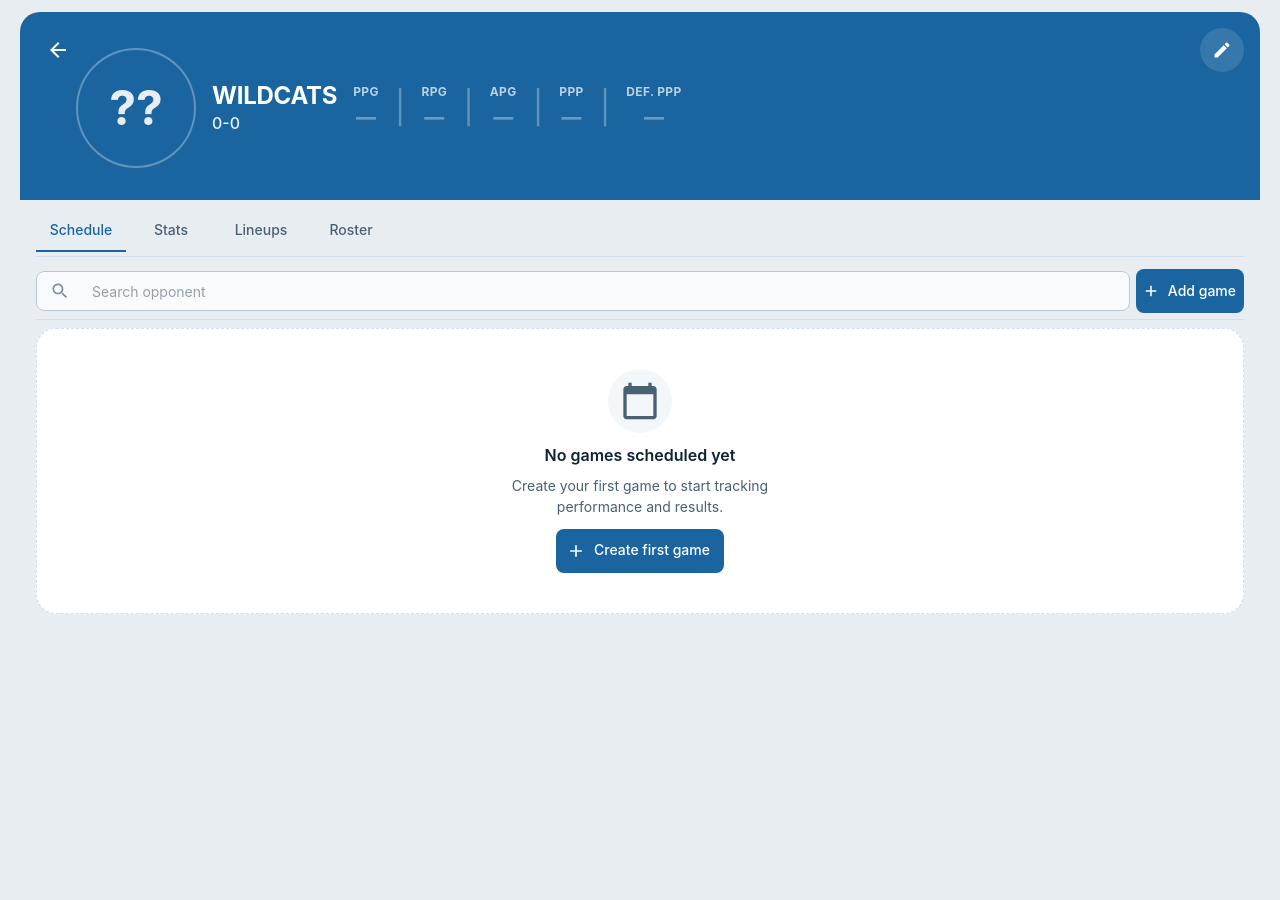
Scenario: TeamStats Page › opens ManageRosterDialog from Roster tab
Click the tab "Roster".
click(351, 230)  # box x1=306 y1=208 x2=396 y2=252
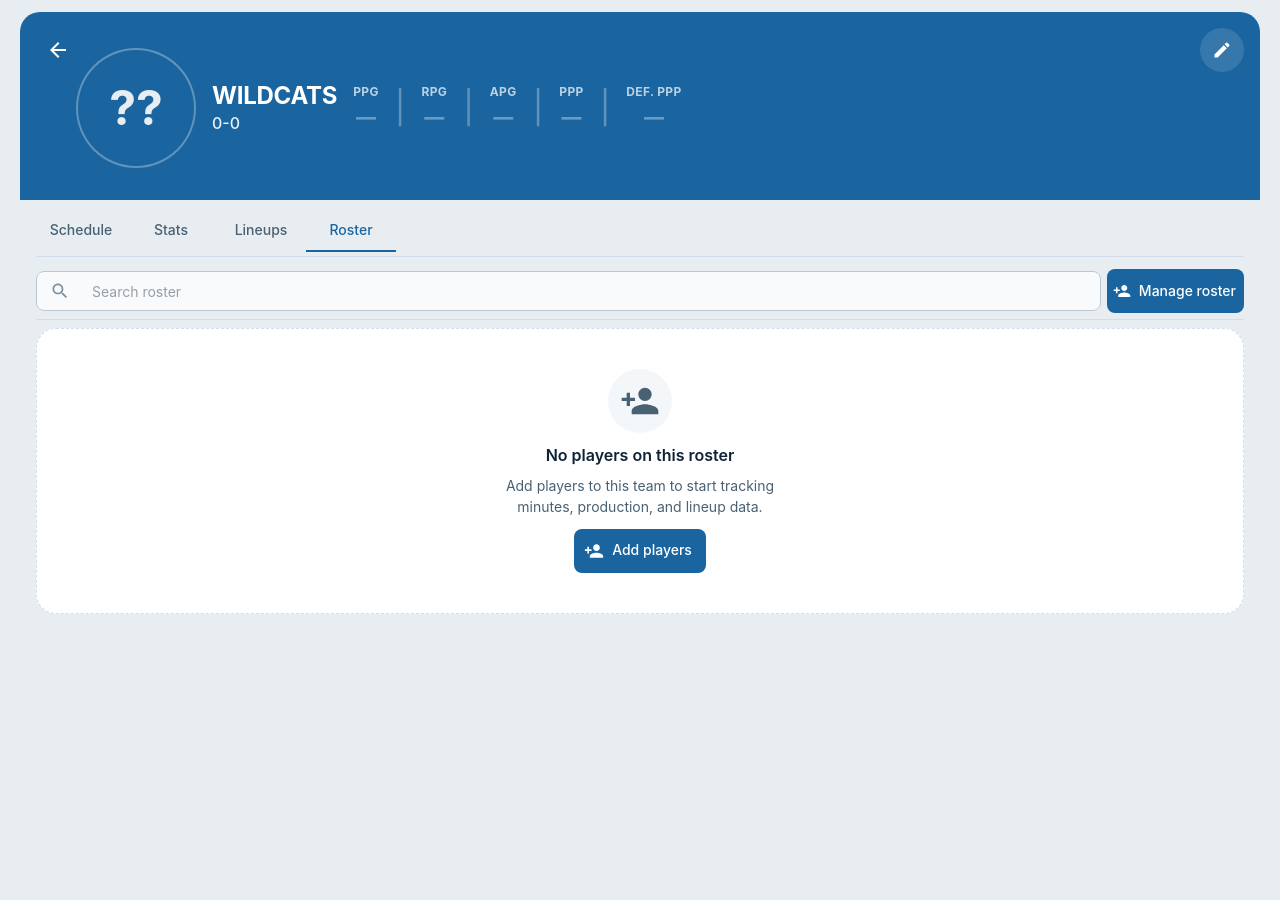
Click the button "Manage roster".
click(1175, 291)  # box x1=1107 y1=269 x2=1244 y2=313
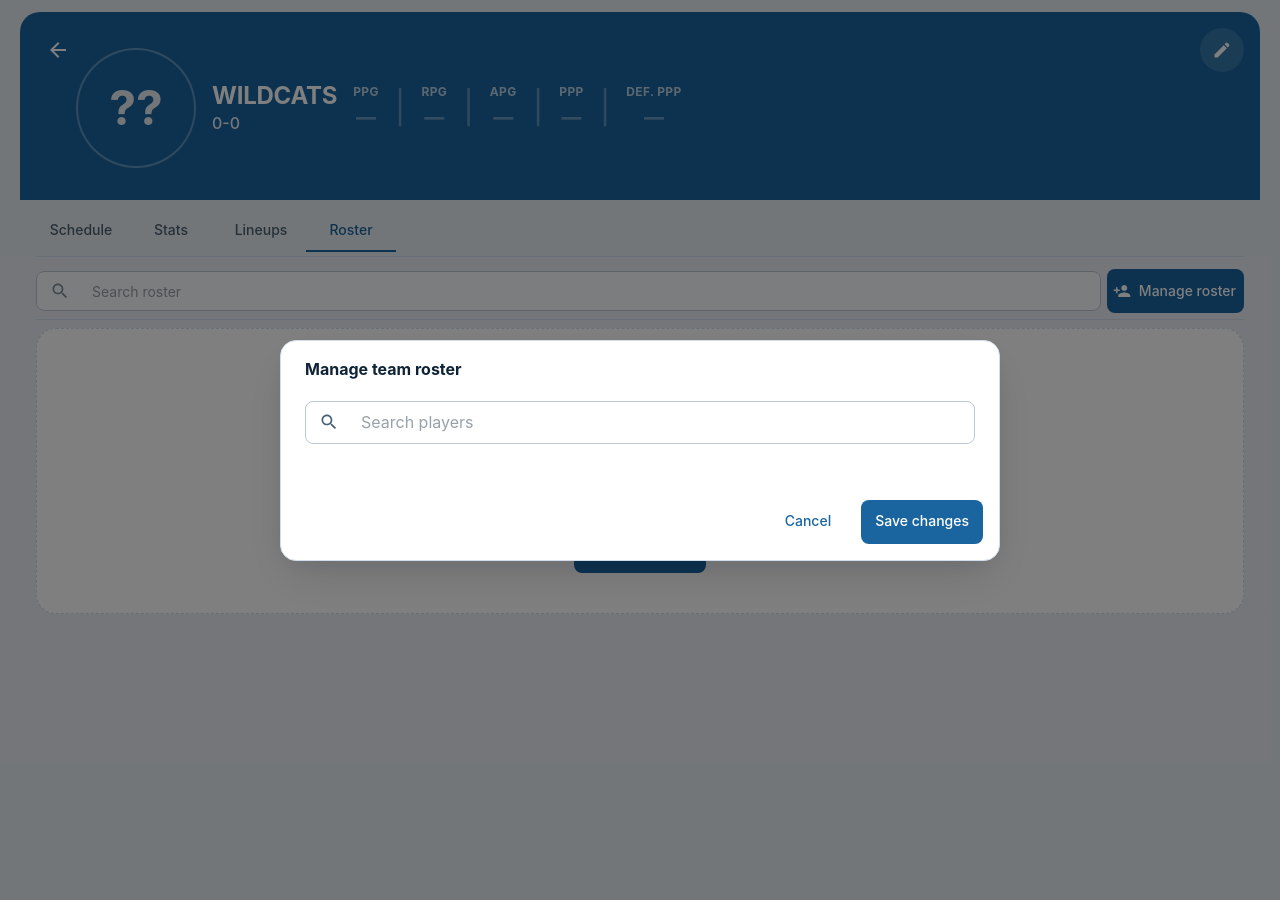
Result: the dialog is shown at x1=280 y1=340 x2=1000 y2=560
